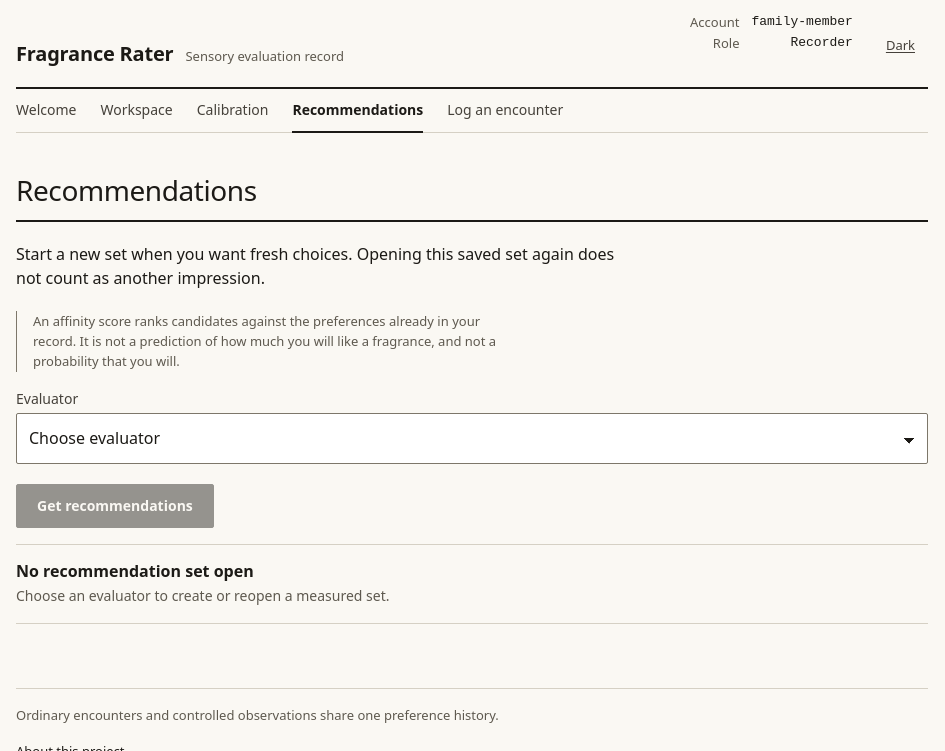
Calibration participant workflow › falls back to a score-based recommendation explanation
Select "Evaluator" in the dropdown labelled "Evaluator" at (472, 439), box [16, 413, 928, 464]
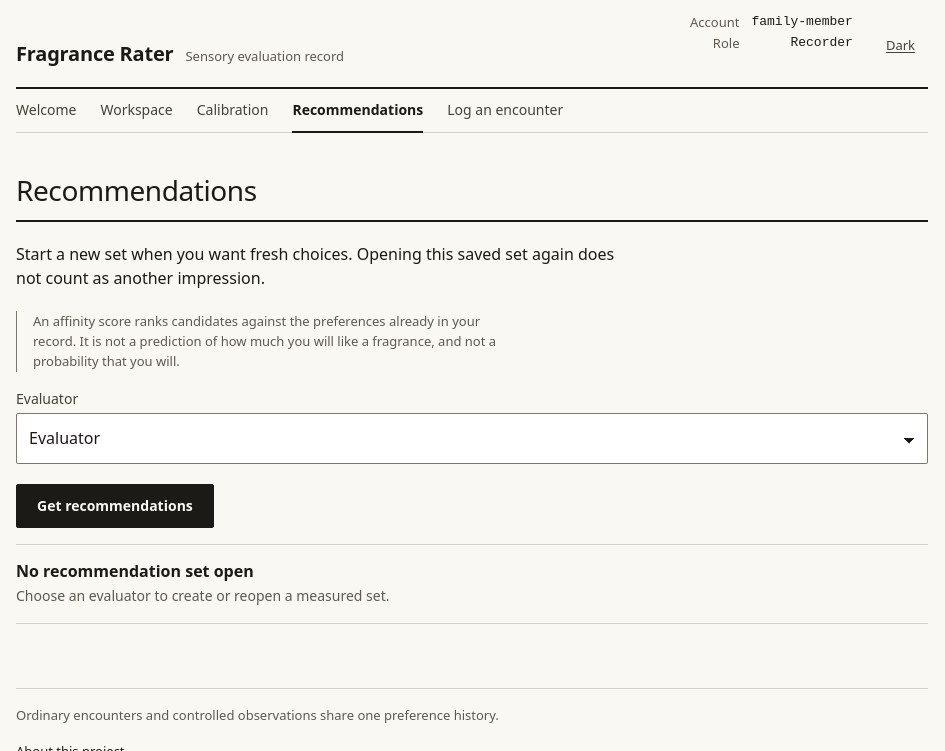
Click the button "Get recommendations" at (115, 506), box [16, 484, 214, 528]
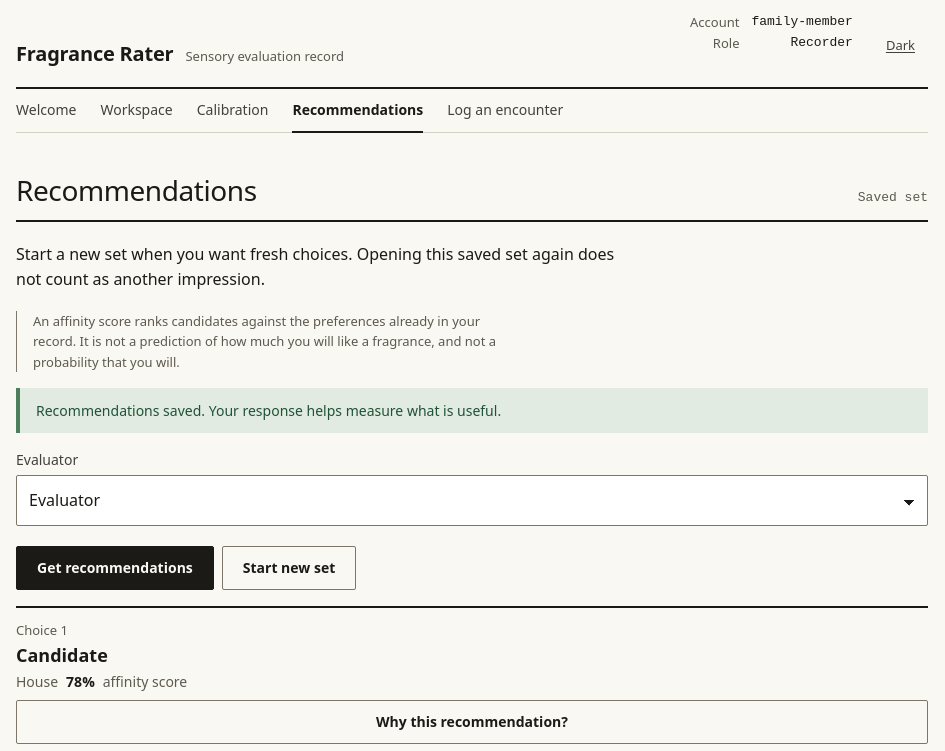
Click the button "Why this recommendation?" at (472, 722), box [16, 700, 928, 744]
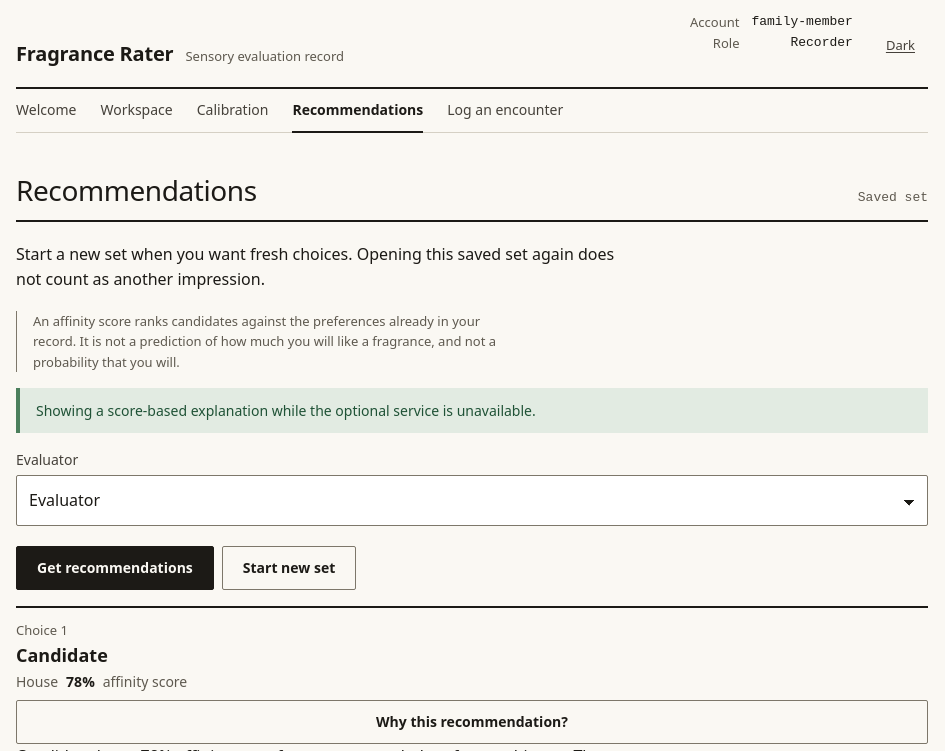
Now the text "Showing a score-based explanation while the optional service is unavailable." is shown, box [16, 388, 928, 434]
